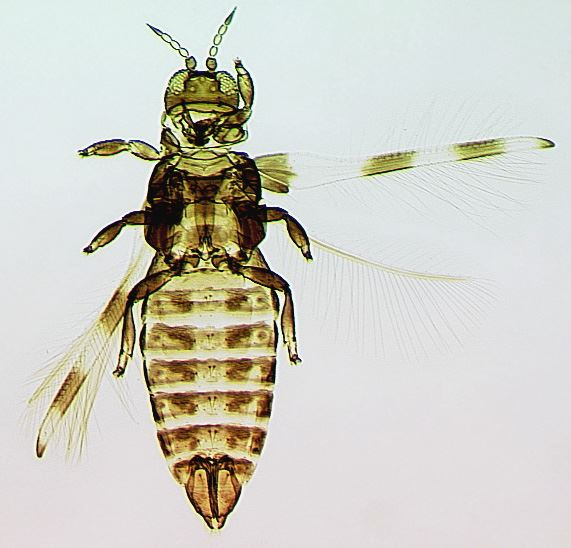Thripidae: (14, 9, 545, 536)
